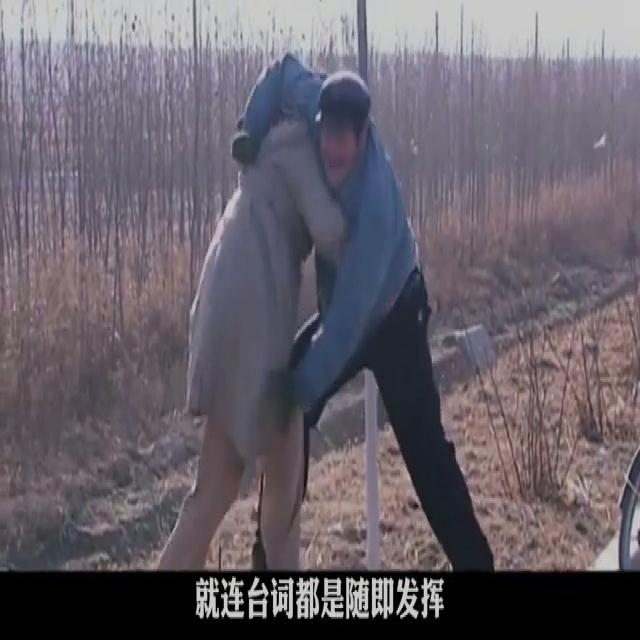fight: (161, 41, 502, 576)
